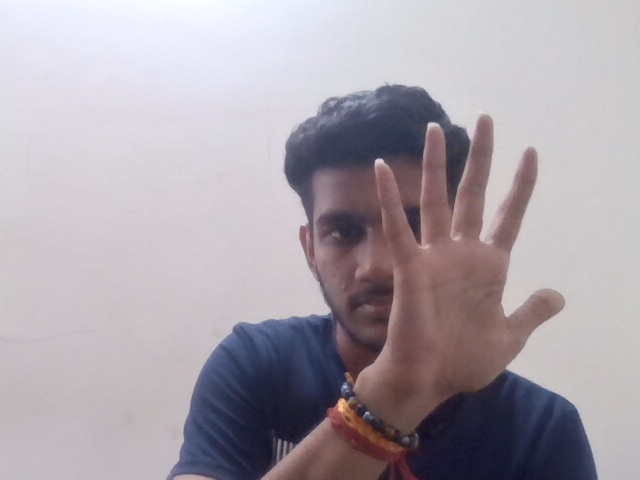hello: (353, 110, 570, 400)
